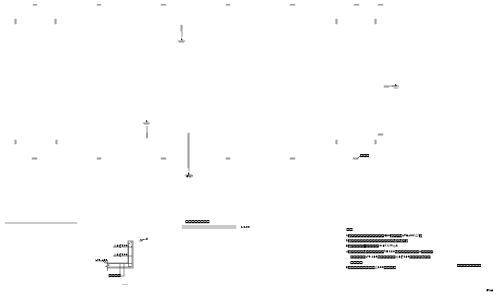room: (129, 19, 160, 46)
wall: (127, 15, 132, 26), (171, 47, 180, 48)
